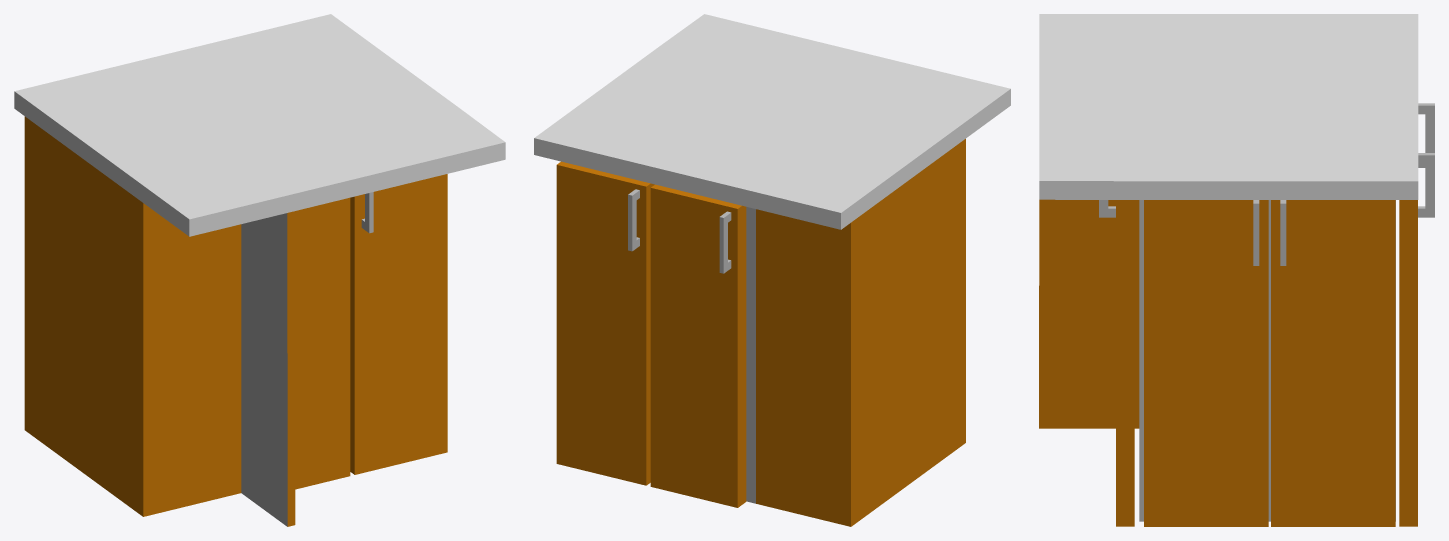
File: sh-contrib-isola-cicina-150x90.glb
3 views of the same model, side by side, from view 1: azimuth 30°, elevation 25°; view 2: azimuth 150°, elevation 25°; view 3: azimuth 270°, elevation 25° (orthographic). The views are drawn at different scales.
Parts seen in each view (by area): view 1: Cube_Cube_Wood_Cherry, Cube_Cube_Piano, Cube_Cube_Aluminum; view 2: Cube_Cube_Wood_Cherry, Cube_Cube_Piano, Cube_Cube_Aluminum; view 3: Cube_Cube_Wood_Cherry, Cube_Cube_Piano, Cube_Cube_Aluminum.
Boxes of the visible parts, left/top/right/bottom form: Cube_Cube_Wood_Cherry: left=24, top=116, right=447, bottom=526; Cube_Cube_Piano: left=14, top=14, right=505, bottom=236; Cube_Cube_Aluminum: left=241, top=192, right=373, bottom=526; Cube_Cube_Wood_Cherry: left=556, top=139, right=965, bottom=526; Cube_Cube_Piano: left=534, top=14, right=1010, bottom=229; Cube_Cube_Aluminum: left=628, top=189, right=755, bottom=503; Cube_Cube_Wood_Cherry: left=1039, top=199, right=1417, bottom=526; Cube_Cube_Piano: left=1039, top=14, right=1418, bottom=199; Cube_Cube_Aluminum: left=1099, top=103, right=1434, bottom=521.
Bounding box in the file's own units: 1 × 1 × 1.
